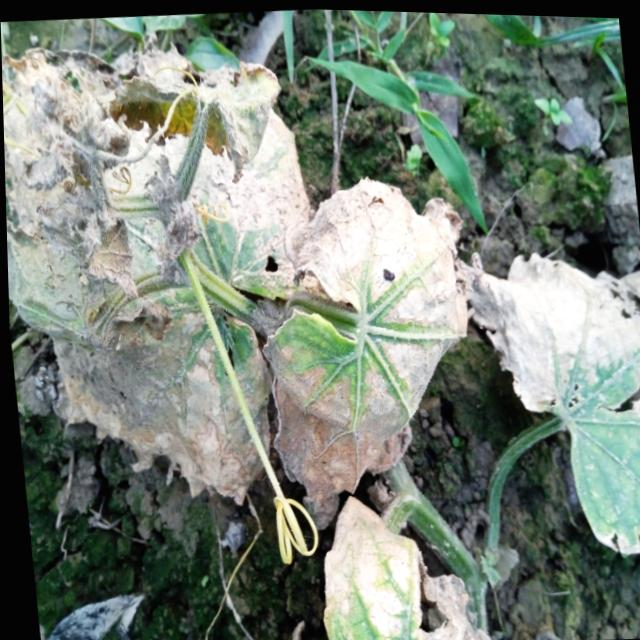Bacterial-Wilt: (0, 20, 484, 516)
